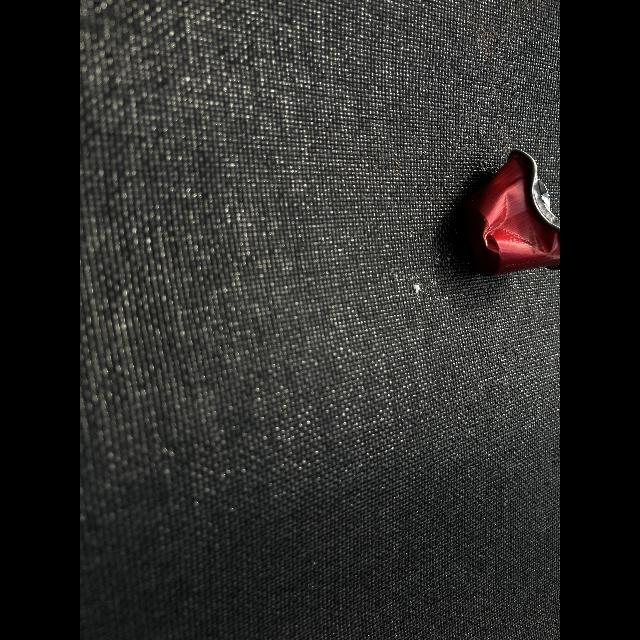damaged_capsule: (456, 140, 560, 286)
